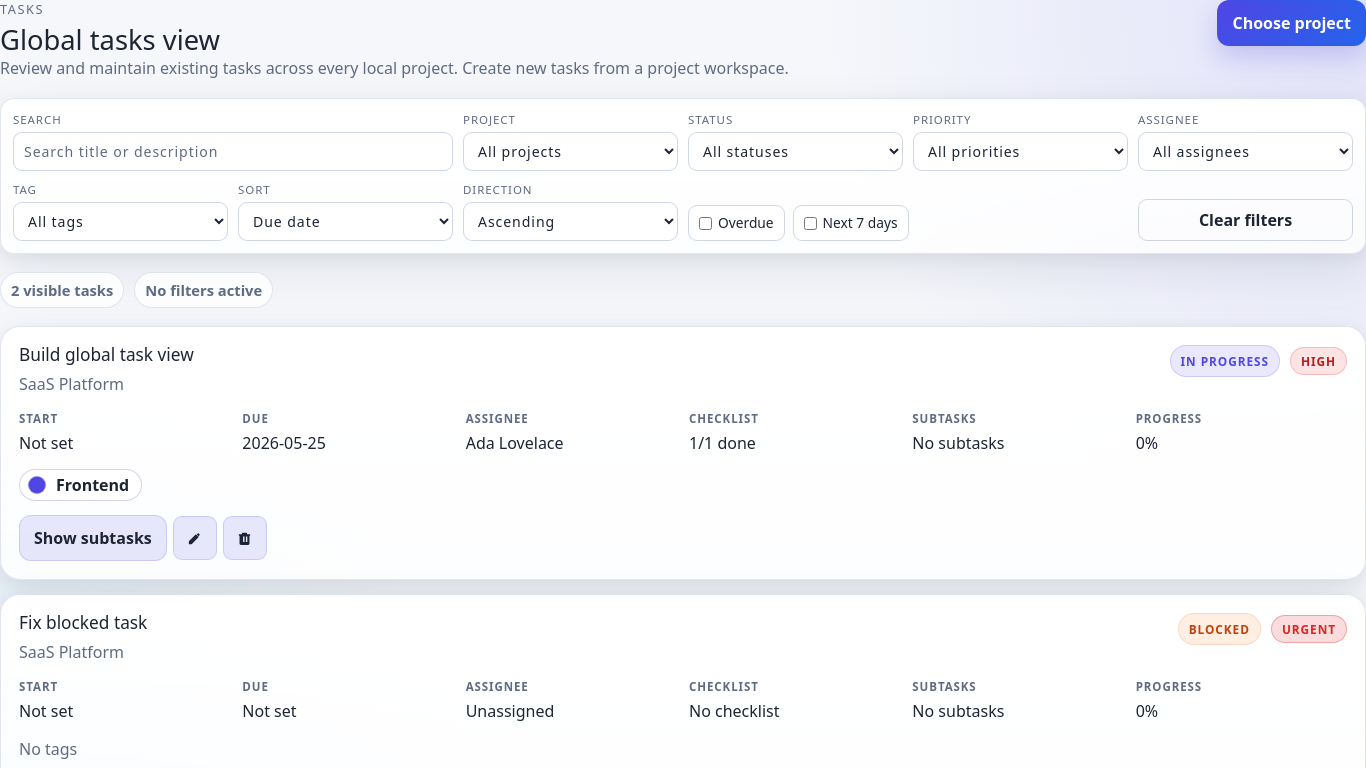
Test: TasksPage › edits a task and shows a success toast
The image size is (1366, 768).
Click the button named "Edit" at (195, 538), box [173,516,217,560]
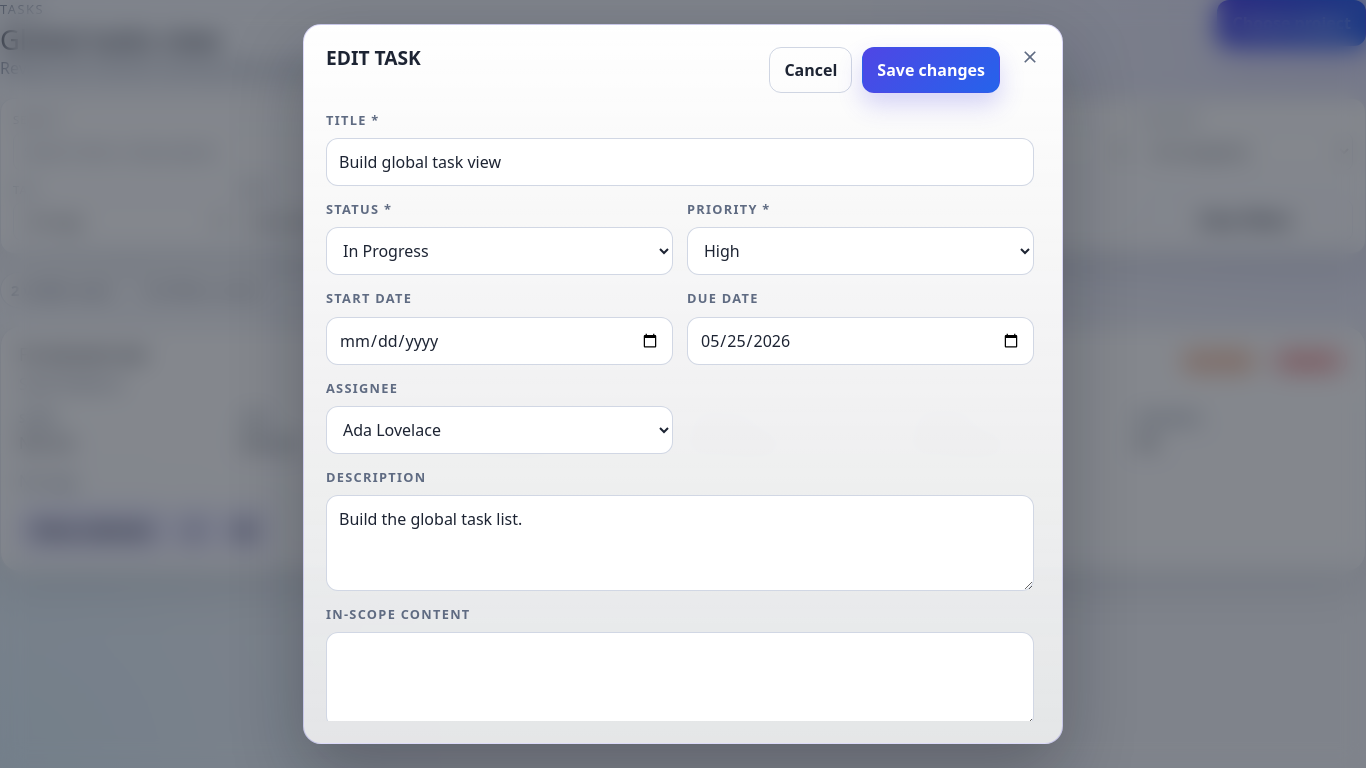
Replace the text in the field labelled "Title *" with "Updated global task" at (680, 162), box [326,138,1034,186]
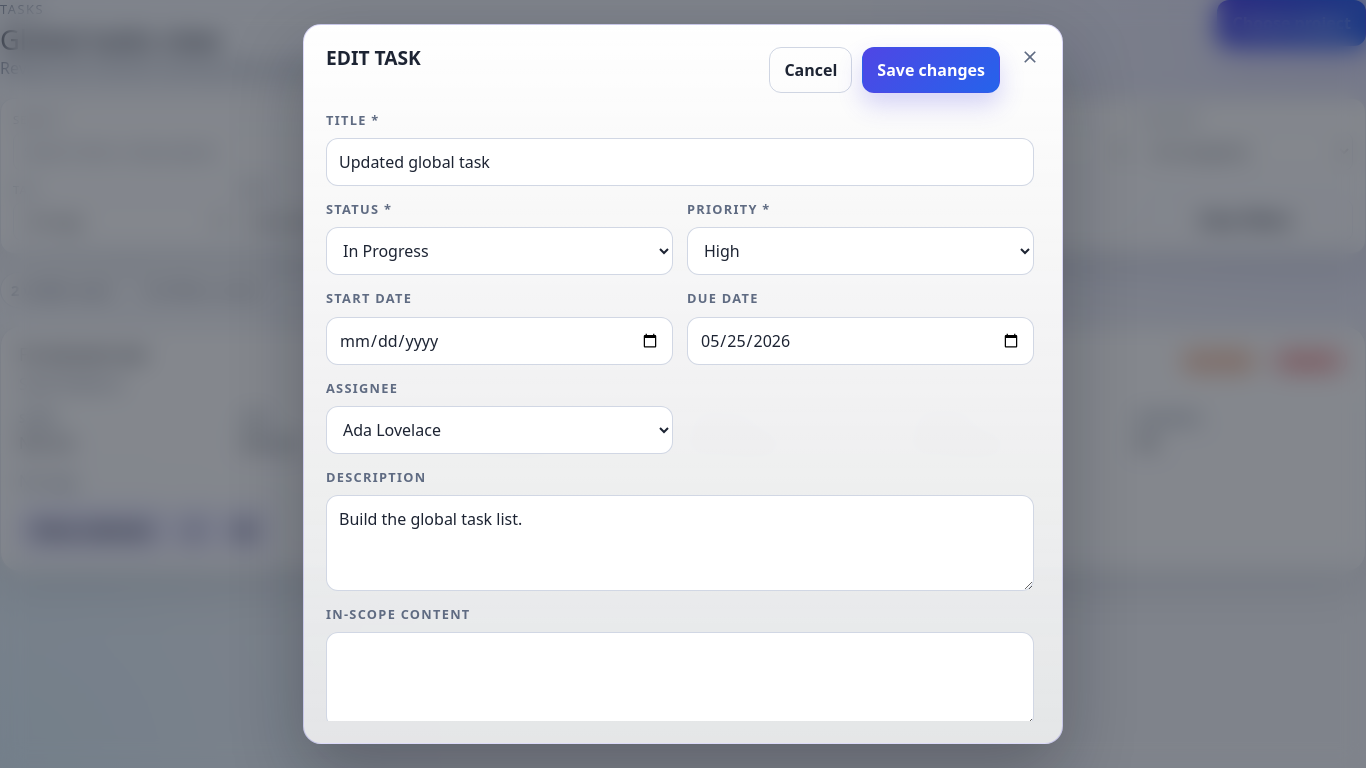
Click the button "Save changes" at (931, 70), box [862,47,1000,93]
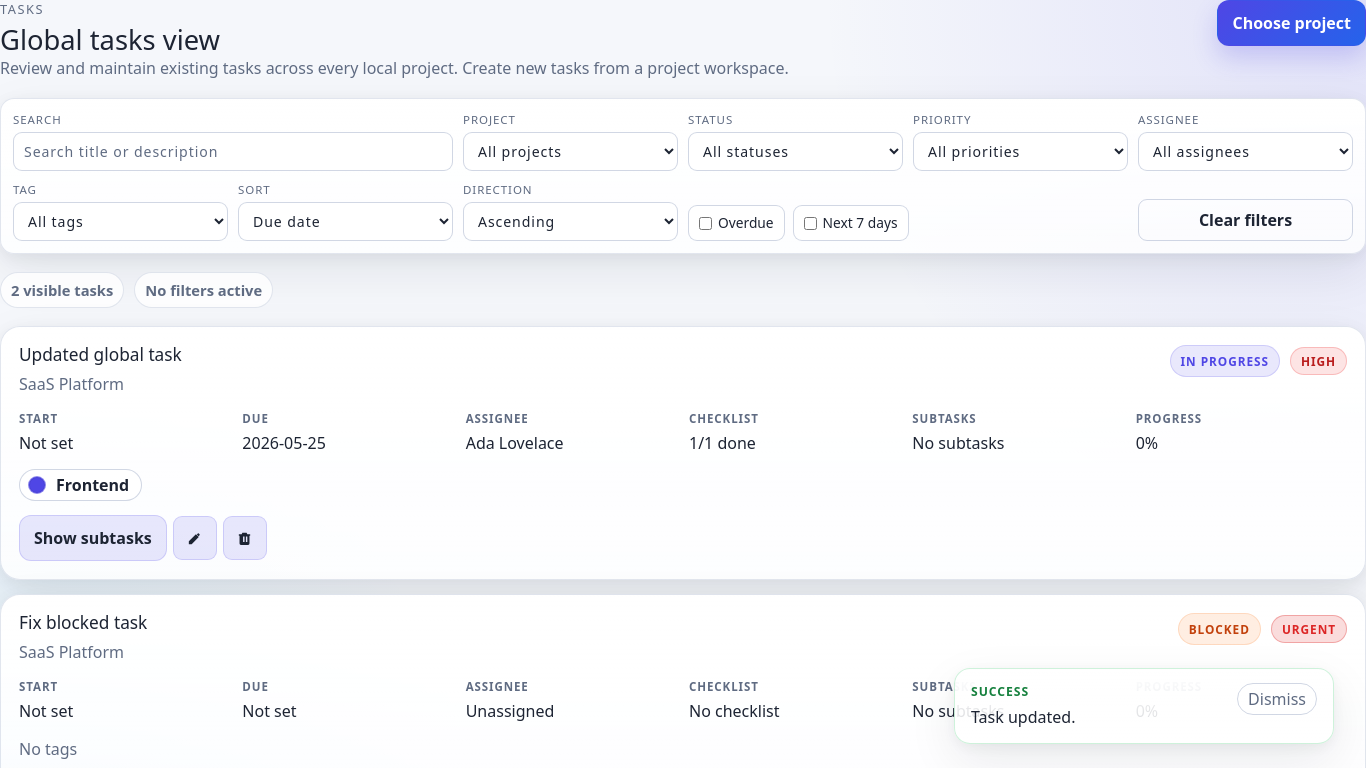
Result: the message shows "Task updated." at [971,706,1075,728]
Result: the heading "Updated global task" is shown at [19,346,182,366]
